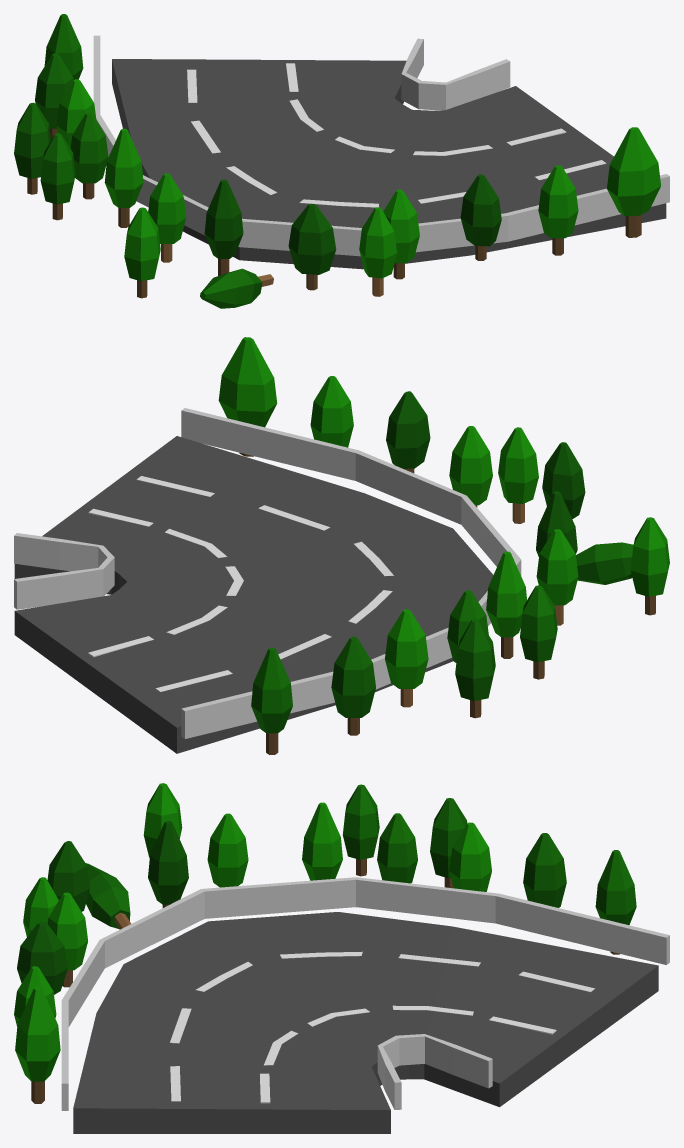
File: highway_01_6.fbx
The picture shows the model from 3 angles, top to bottom: view 1: azimuth 30°, elevation 25°; view 2: azimuth 150°, elevation 25°; view 3: azimuth 270°, elevation 25°; orthographic projection. The views are drawn at different scales.
Parts seen in each view (by area): view 1: highway01.001, leitPlankOutside.001, tuja11, leitPlankInside.001, tuja07.001, tuja04, tuja08, tuja02, tuja07, tuja08.001, tuja03.001, tuja06.001 (+8 smaller); view 2: highway01.001, leitPlankOutside.001, leitPlankInside.001, tuja11, tuja06, tuja09, tuja10, tuja04, tuja06.001, tuja03.001, tuja08.001, tuja07 (+8 smaller); view 3: highway01.001, leitPlankOutside.001, leitPlankInside.001, tuja11, tuja02, tuja06, tuja04, tuja05.001, tuja03, tuja09, tuja07, tuja10 (+8 smaller).
Boxes of the visible parts, box(x1,y1,x2,y2) form: highway01.001: box(112, 59, 666, 269); leitPlankOutside.001: box(93, 35, 669, 256); tuja11: box(607, 127, 660, 237); leitPlankInside.001: box(401, 38, 510, 110); tuja07.001: box(288, 203, 336, 290); tuja04: box(104, 128, 143, 227); tuja08: box(538, 165, 578, 255); tuja02: box(204, 179, 243, 275); tuja07: box(460, 174, 501, 260); tuja08.001: box(124, 207, 160, 298); tuja03.001: box(359, 207, 396, 296); tuja06.001: box(14, 102, 50, 194); highway01.001: box(14, 436, 493, 753); leitPlankOutside.001: box(181, 408, 521, 738); leitPlankInside.001: box(14, 533, 114, 609); tuja11: box(218, 337, 277, 456); tuja06: box(331, 636, 375, 735); tuja09: box(385, 609, 428, 707); tuja10: box(251, 647, 292, 754); tuja04: box(486, 551, 526, 658); tuja06.001: box(455, 619, 495, 718); tuja03.001: box(498, 427, 538, 523); tuja08.001: box(630, 517, 669, 615); tuja07: box(386, 391, 430, 473); highway01.001: box(73, 912, 658, 1133); leitPlankOutside.001: box(61, 877, 669, 1110); leitPlankInside.001: box(377, 1034, 492, 1109); tuja11: box(15, 986, 60, 1103); tuja02: box(148, 821, 188, 907); tuja06: box(523, 833, 566, 907); tuja04: box(302, 802, 342, 880); tuja05.001: box(342, 784, 379, 876); tuja03: box(207, 813, 248, 887); tuja09: box(449, 822, 491, 891); tuja07: box(17, 922, 67, 994); tuja10: box(595, 850, 636, 954).
Bounding box in the file's own units: 74.05 × 16.25 × 79.9.
